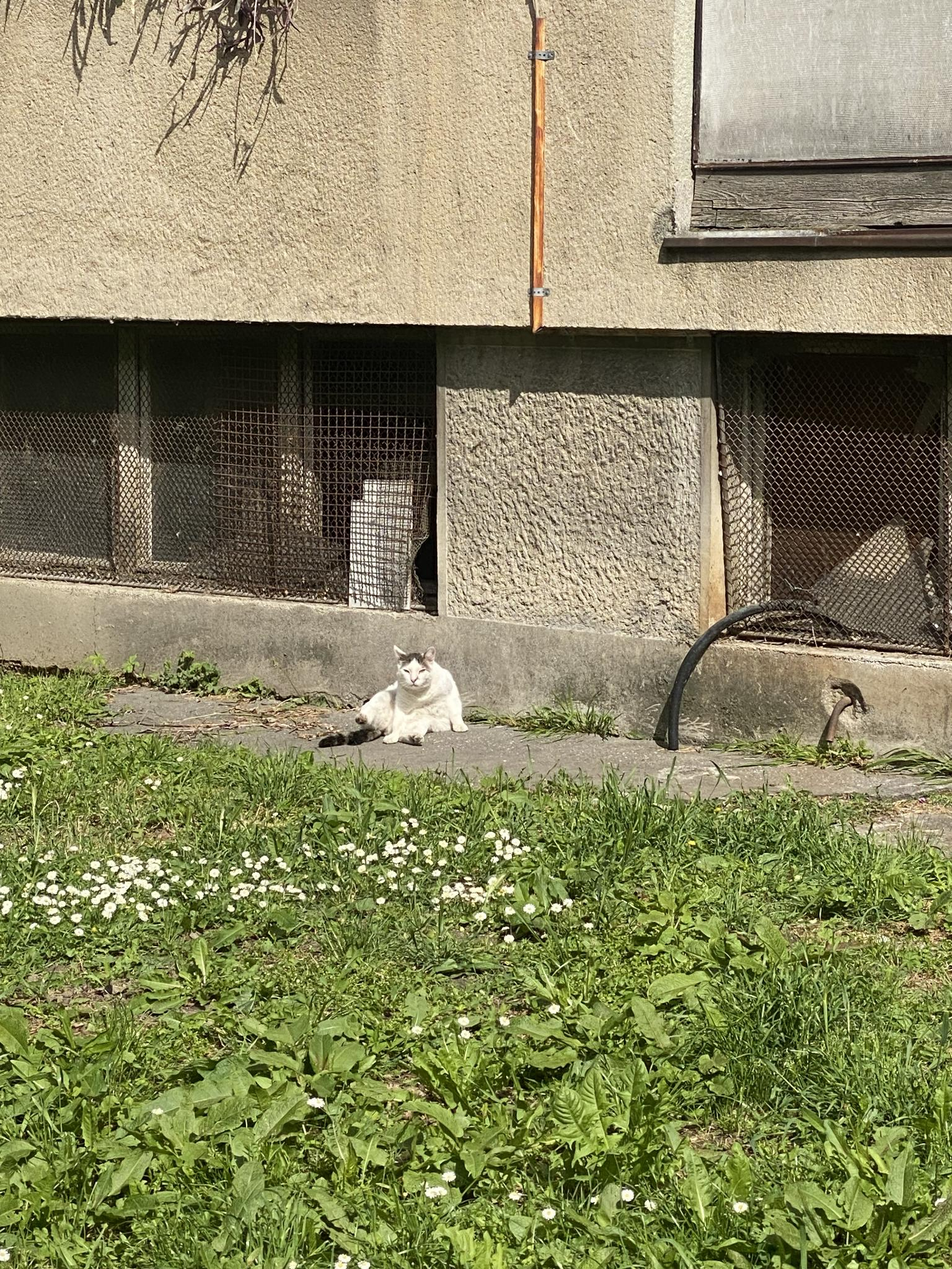macka: (321, 644, 469, 748)
